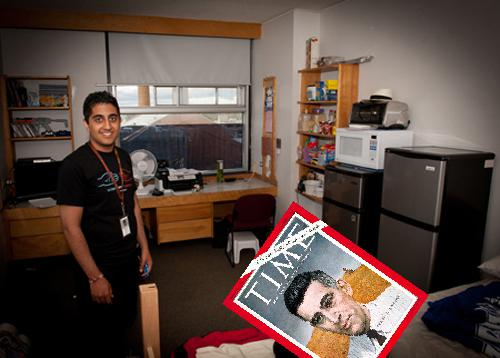times: (220, 201, 427, 355)
